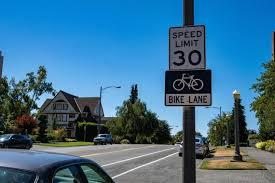30 MPH: (168, 26, 205, 70)
